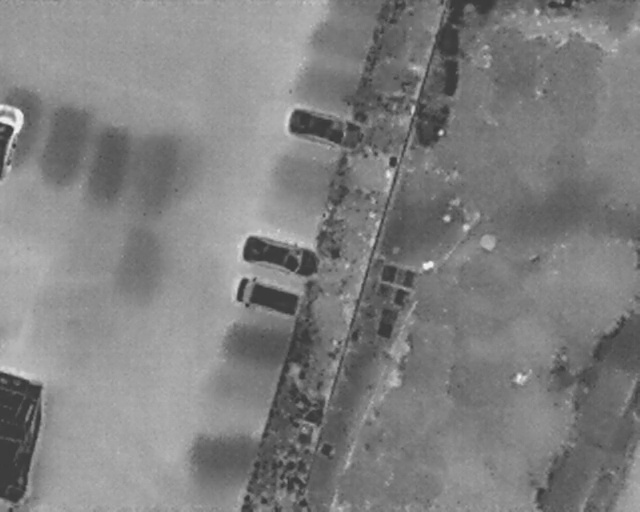Car: (280, 102, 368, 156), (237, 231, 323, 281), (231, 272, 303, 322), (0, 102, 24, 182)
